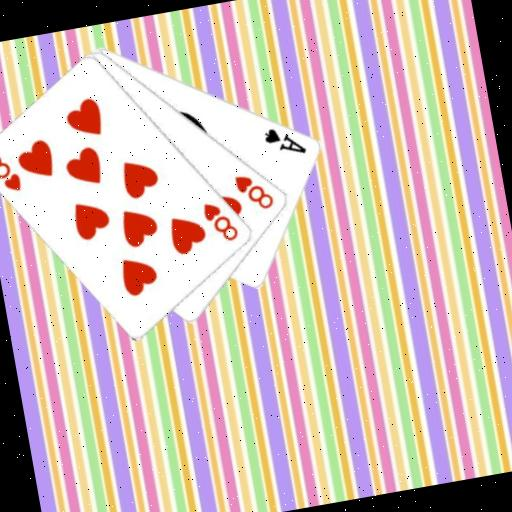8H: (231, 167, 277, 216), (198, 195, 241, 247), (0, 145, 24, 196)
AS: (260, 119, 309, 162)
